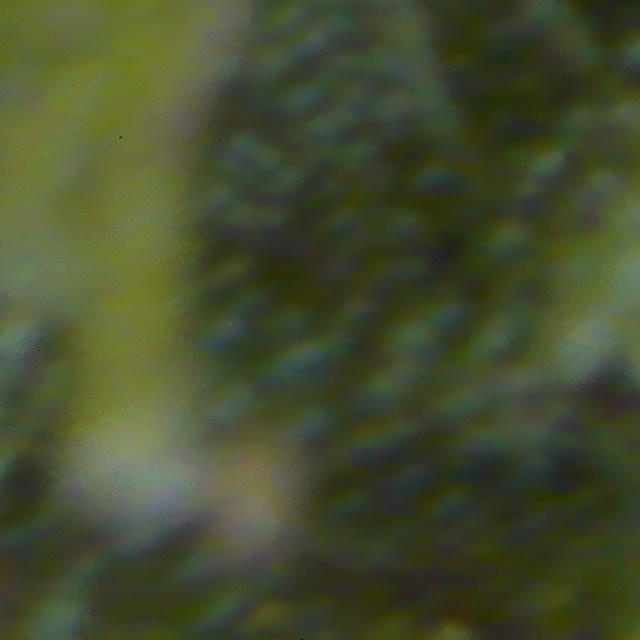SeaGrape: (538, 300, 625, 384)
